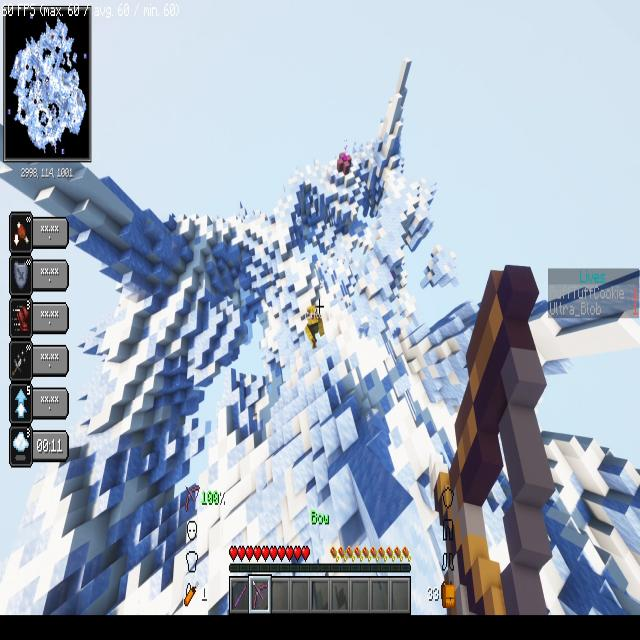Player: (303, 297, 326, 353)
